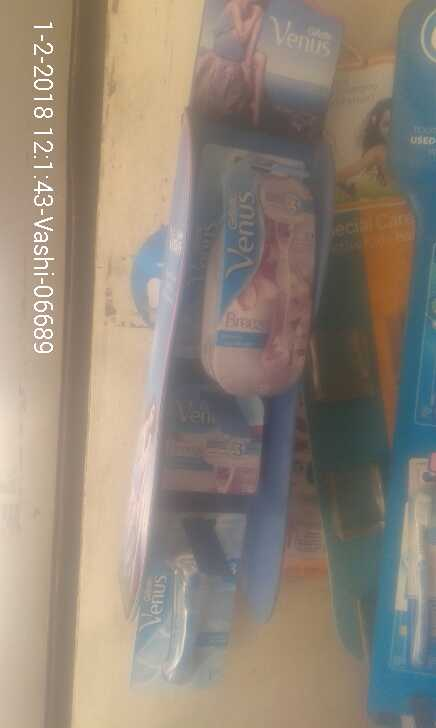reject: (206, 164, 312, 398)
